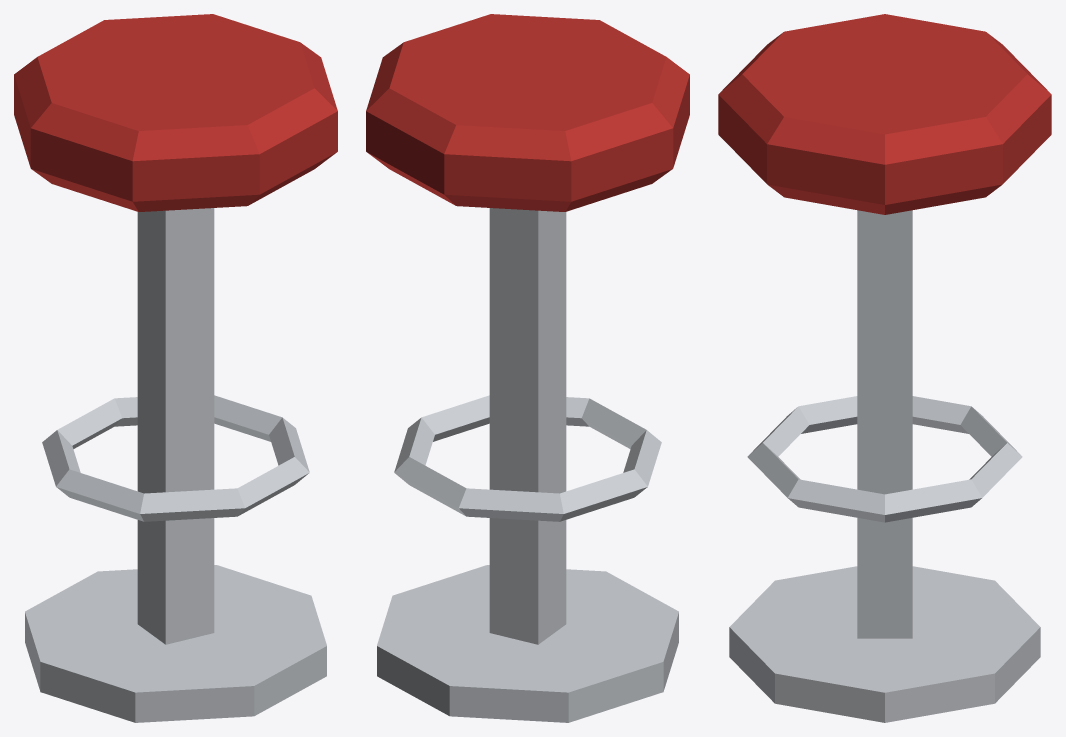
File: DinerStool.fbx
The picture shows the model from 3 angles, left to right: view 1: azimuth 30°, elevation 25°; view 2: azimuth 150°, elevation 25°; view 3: azimuth 270°, elevation 25°; orthographic projection.
Visible parts, largest first — view 1: DinerStool; view 2: DinerStool; view 3: DinerStool.
Part boxes in pixels (x1,y1,x2,y2): DinerStool: (14,14,337,722); DinerStool: (366,14,689,722); DinerStool: (718,14,1051,722).
Bounding box in the file's own units: 1.5 × 2.89 × 1.5.
1 material, 1 textured.
